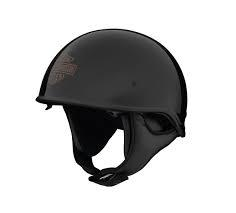helmet: (28, 26, 196, 139)
